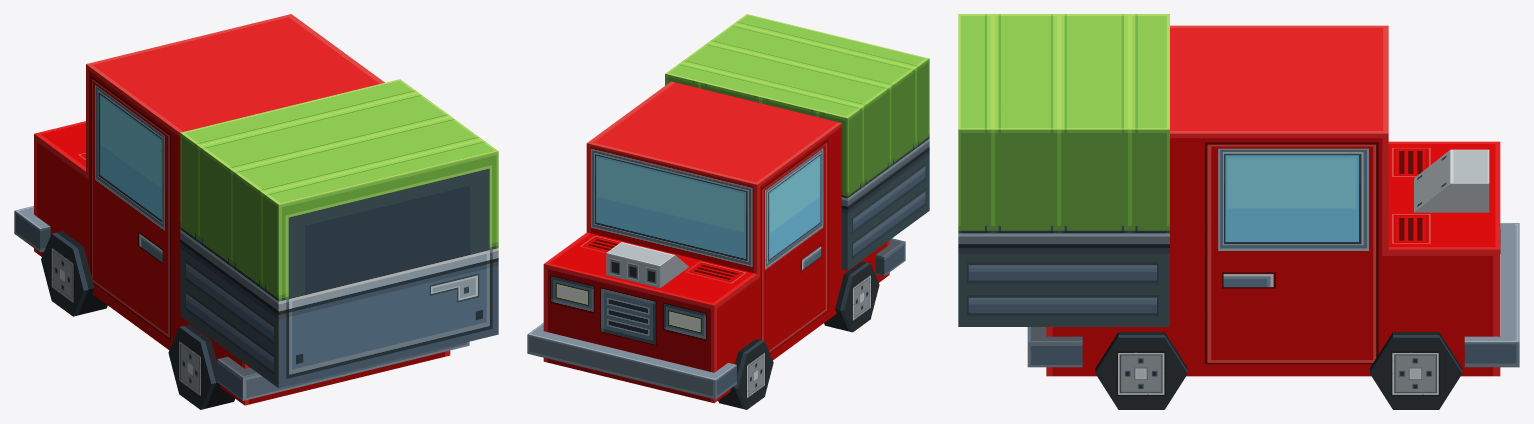
File: car.fbx
3 views of the same model, side by side, from view 1: azimuth 30°, elevation 25°; view 2: azimuth 150°, elevation 25°; view 3: azimuth 270°, elevation 25° (orthographic). The views are drawn at different scales.
Parts seen in each view (by area): view 1: cargo_box, car_model, wheel_03, wheel_04; view 2: car_model, cargo_box, engine, wheel_04, wheel_03; view 3: car_model, cargo_box, wheel_02, wheel_01, engine.
Part boxes in pixels (x1,y1,x2,y2): cargo_box: [180, 79, 498, 387]; car_model: [14, 14, 469, 405]; wheel_03: [41, 231, 107, 316]; wheel_04: [168, 324, 234, 409]; car_model: [527, 81, 905, 403]; cargo_box: [665, 14, 929, 270]; engine: [606, 242, 688, 287]; wheel_04: [824, 261, 879, 332]; wheel_03: [718, 339, 773, 409]; car_model: [1027, 25, 1519, 376]; cargo_box: [958, 14, 1169, 326]; wheel_02: [1095, 332, 1187, 409]; wheel_01: [1370, 332, 1462, 409]; engine: [1414, 149, 1489, 212].
Bounding box in the file's own units: 4.04 × 4.4 × 8.04.
